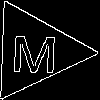M: (10, 26, 59, 74)
